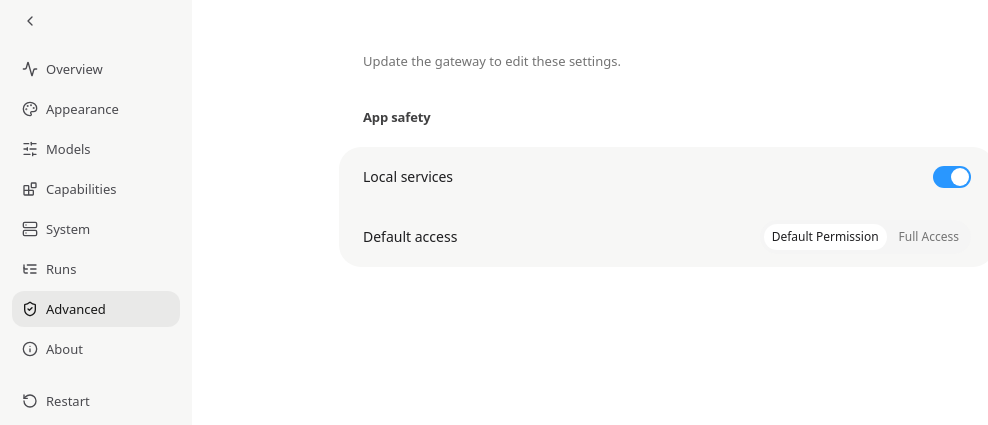
Test case: Settings capabilities › uses native host safety copy on the native surface
Check: the heading "App safety" is shown, box left=363, top=108, right=431, bottom=126
Click the button "Local services" at (408, 177), box left=363, top=167, right=453, bottom=187
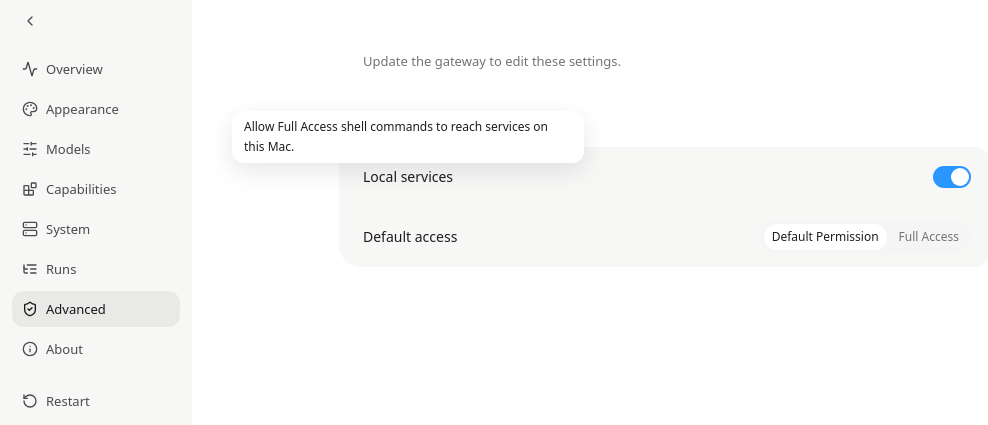
Check: the tooltip reads "Allow Full Access shell commands to reach services on this Mac.", box left=244, top=118, right=548, bottom=155
